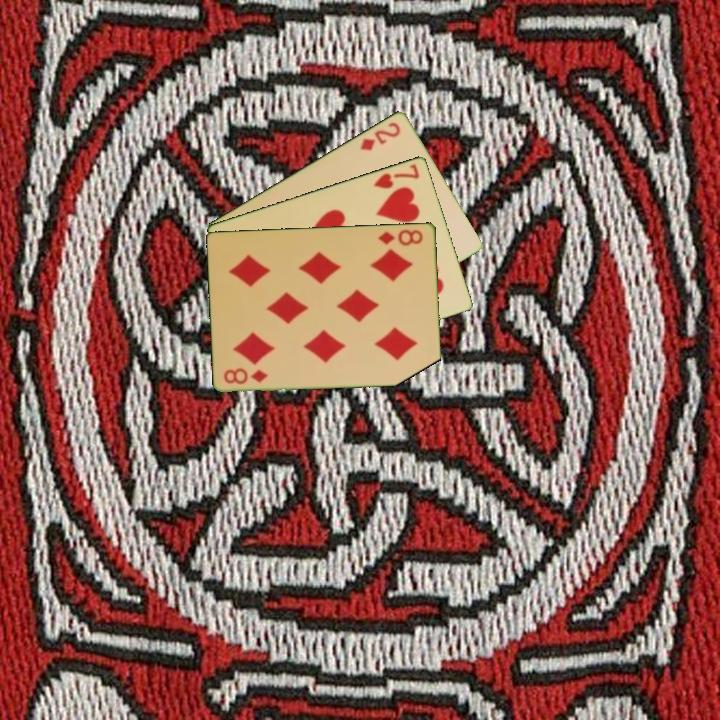2d: (356, 118, 403, 153)
7h: (370, 160, 422, 191)
8d: (375, 226, 426, 248), (221, 365, 270, 387)
